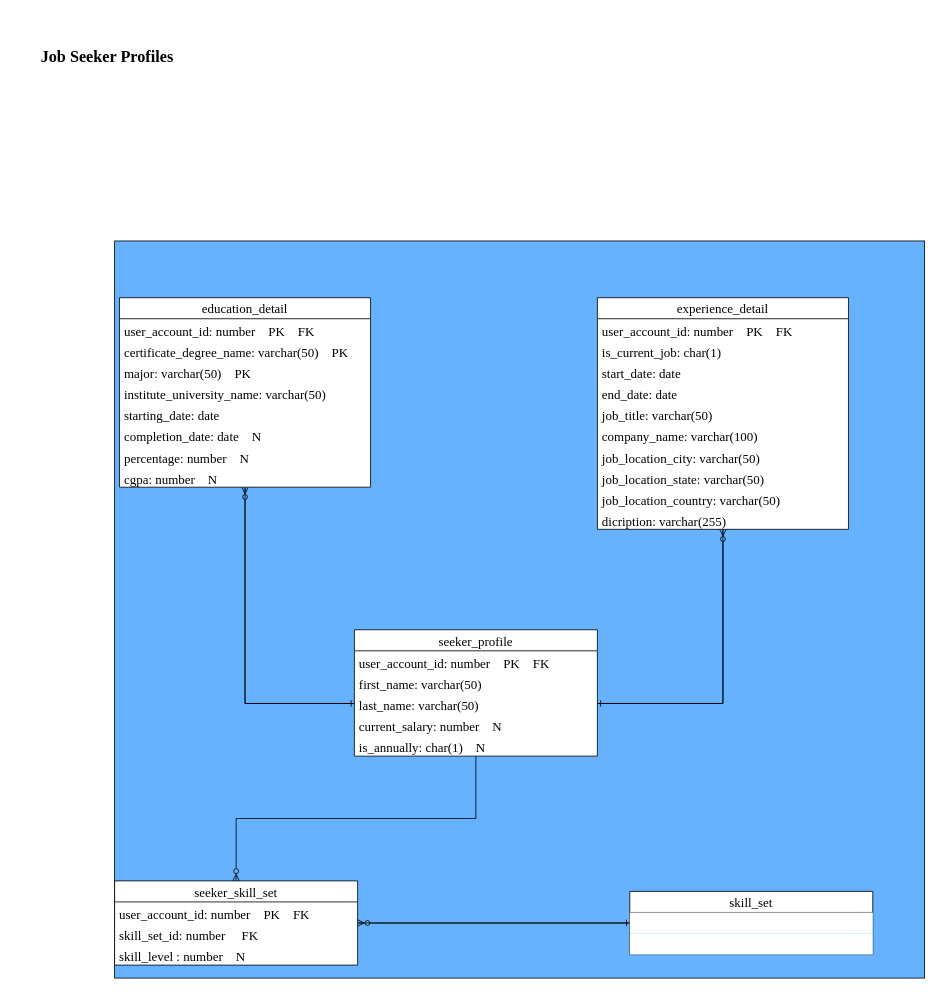
This 939x992 diagram has some shape labels left out. The centre of each missing label's shape, as x and y in pixels:
"id: number PK" goes at point 750,922.
"skill_set_name: varchar(50)" goes at point 750,943.
